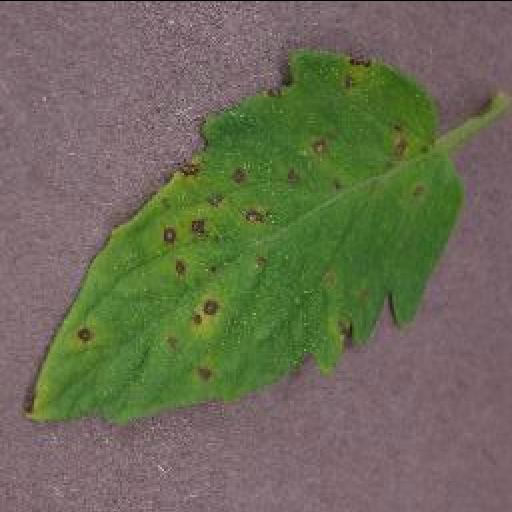disease_tomato: (24, 49, 464, 421)
